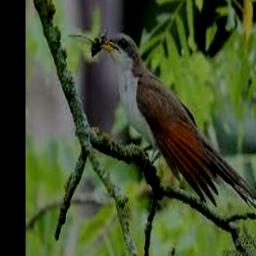Cuckoo: (101, 33, 256, 212)
